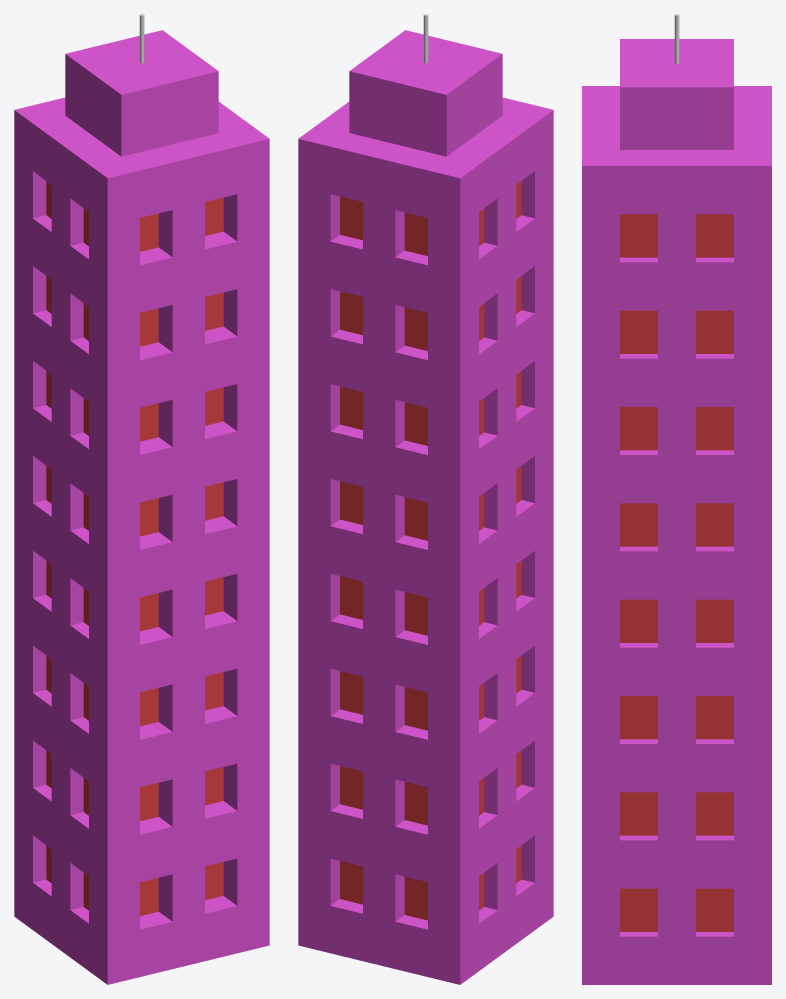
The model's file is skyscrapers4.fbx.
3 renders of one model, left to right at view 1: azimuth 30°, elevation 25°; view 2: azimuth 150°, elevation 25°; view 3: azimuth 270°, elevation 25°, orthographic.
Parts seen in each view (by area): view 1: Cube; view 2: Cube; view 3: Cube.
Boxes of the visible parts, bbox=[...] form: Cube: bbox=[14, 30, 269, 984]; Cube: bbox=[298, 30, 553, 984]; Cube: bbox=[582, 39, 771, 984].
Size of the model in its own units: 2 by 10.81 by 2.
